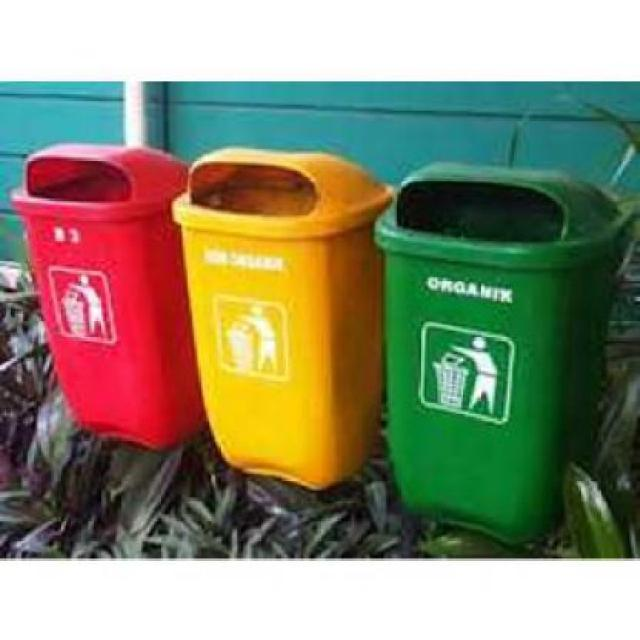garbage container: (376, 159, 624, 555), (173, 138, 392, 503), (3, 133, 202, 475)
